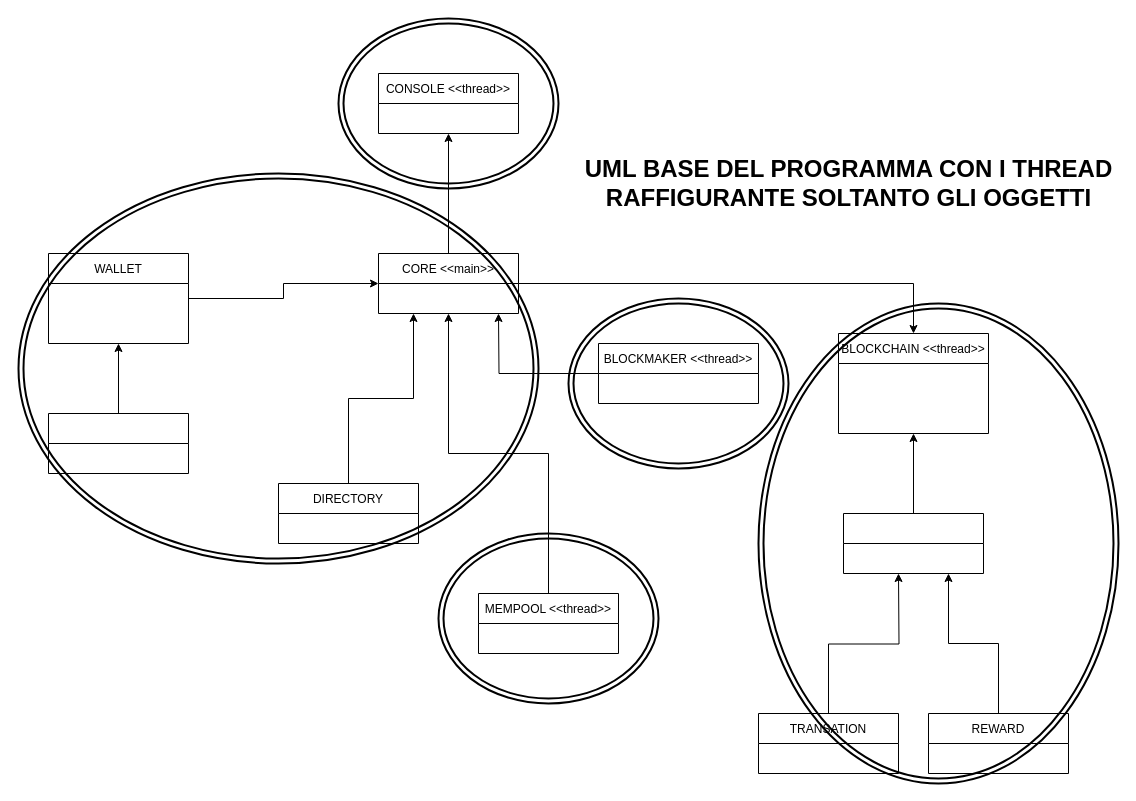
Some shapes in this 1136 by 801 pixel diagram are drawn without their labels. The shapes that lost their labels are listed below. From the top down, each one's box as (x1, y1, x2, y2) in pixels, then its label:
(48, 412, 188, 474): CRYPTO
(842, 512, 984, 574): BLOCK
